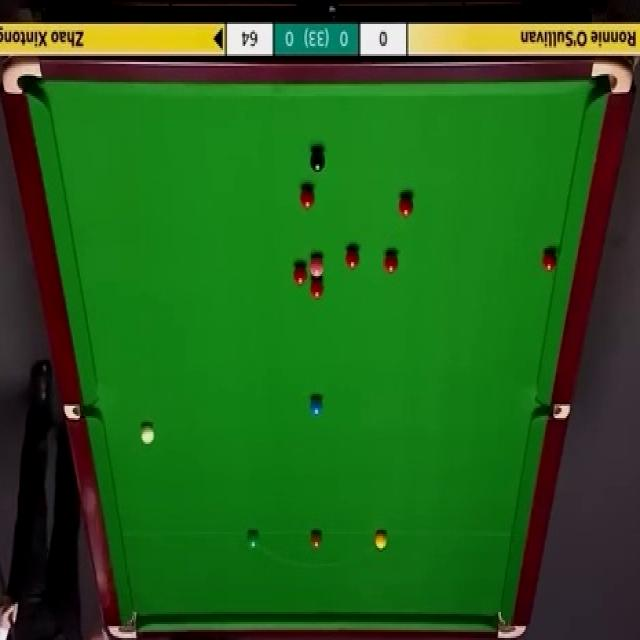black-ball: (309, 147, 326, 172)
blue-ball: (308, 396, 324, 416)
brown-ball: (310, 530, 323, 550)
green-ball: (247, 530, 259, 548)
pink-ball: (311, 253, 326, 279)
red-ball: (300, 184, 316, 208), (345, 244, 361, 268), (292, 261, 308, 285), (542, 250, 558, 271), (399, 193, 414, 215), (384, 250, 397, 273), (310, 278, 322, 302)
white-ball: (140, 421, 156, 446)
yellow-ball: (375, 530, 388, 550)
